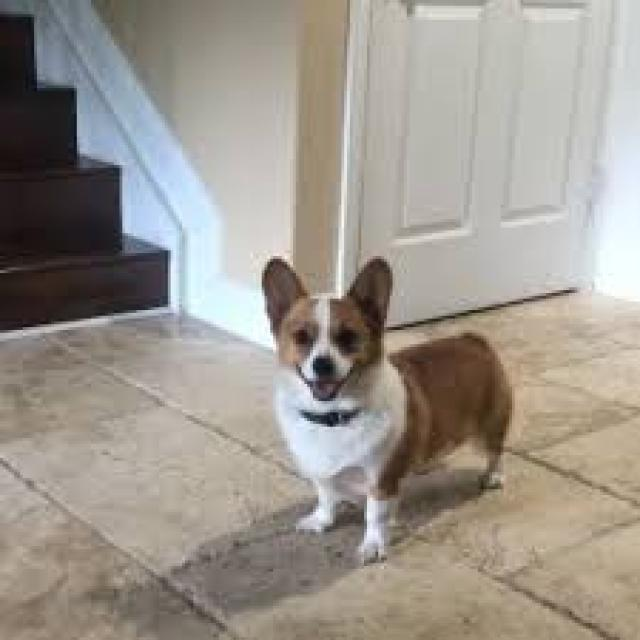CORGI: (249, 247, 542, 561)
